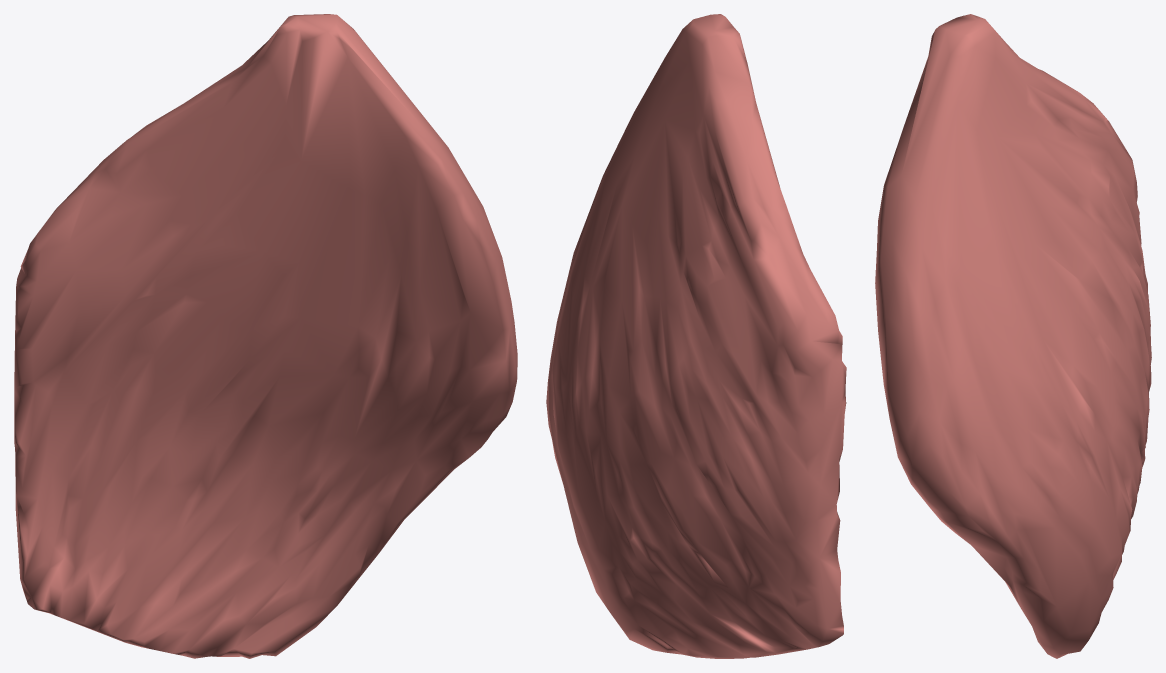
3 renders of one model, left to right at view 1: azimuth 30°, elevation 25°; view 2: azimuth 150°, elevation 25°; view 3: azimuth 270°, elevation 25°, orthographic. The views are drawn at different scales.
Visible parts, largest first — view 1: ZA_e759d4784472bd22; view 2: ZA_e759d4784472bd22; view 3: ZA_e759d4784472bd22.
Part boxes in pixels (left/top/right/bottom): ZA_e759d4784472bd22: left=14, top=14, right=517, bottom=658; ZA_e759d4784472bd22: left=546, top=14, right=846, bottom=658; ZA_e759d4784472bd22: left=875, top=14, right=1151, bottom=658.
Size of the model in its own units: 0.00909 by 0.0144 by 0.00574.
